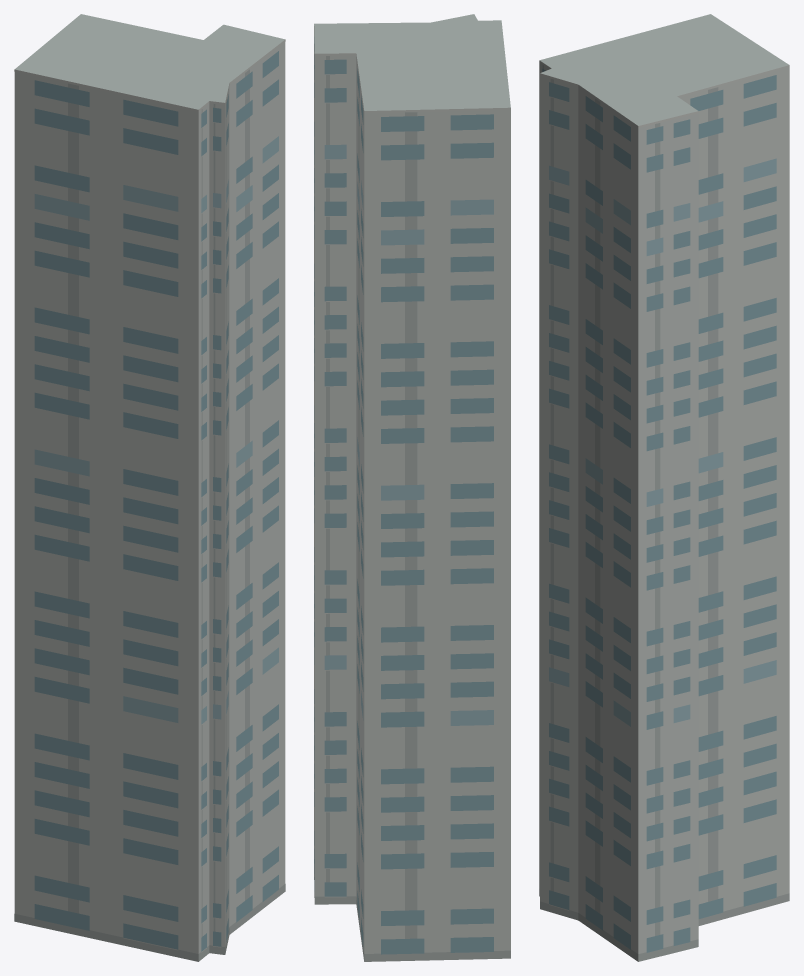
Rendered from survey-upis-32906847.glb.
3 views of the same model, side by side, from view 1: azimuth 30°, elevation 25°; view 2: azimuth 150°, elevation 25°; view 3: azimuth 270°, elevation 25° (orthographic).
Parts seen in each view (by area): view 1: survey-upis-32906847.tmp; view 2: survey-upis-32906847.tmp; view 3: survey-upis-32906847.tmp.
Part boxes in pixels (bbox=[...]): survey-upis-32906847.tmp: bbox=[14, 14, 285, 961]; survey-upis-32906847.tmp: bbox=[314, 14, 510, 961]; survey-upis-32906847.tmp: bbox=[539, 14, 789, 961].
Bounding box in the file's own units: 26.31 × 91.5 × 24.84.
